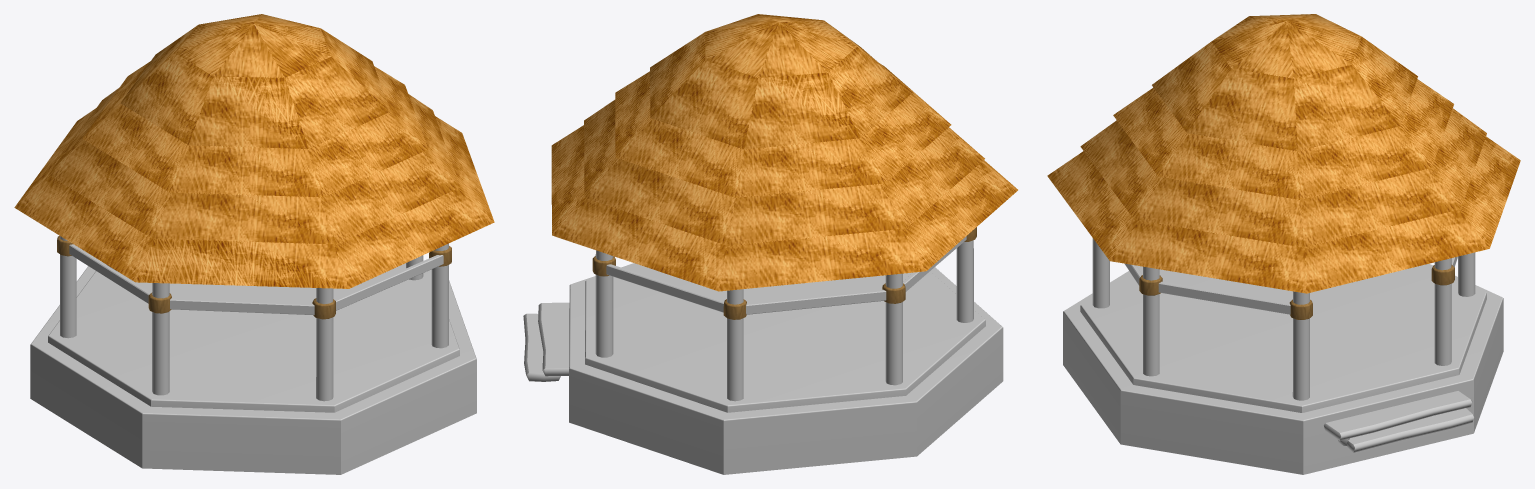
File: AG_Stand_Info_DAO_Art.fbx
3 views of the same model, side by side, from view 1: azimuth 30°, elevation 25°; view 2: azimuth 150°, elevation 25°; view 3: azimuth 270°, elevation 25° (orthographic).
Parts seen in each view (by area): view 1: Stand_Info_Dao; view 2: Stand_Info_Dao; view 3: Stand_Info_Dao.
Part boxes in pixels (left/top/right/bottom): Stand_Info_Dao: left=14, top=14, right=494, bottom=474; Stand_Info_Dao: left=523, top=14, right=1017, bottom=474; Stand_Info_Dao: left=1047, top=14, right=1520, bottom=474.
Size of what is drawn, in the model's own units: 1180 by 979 by 1178.
